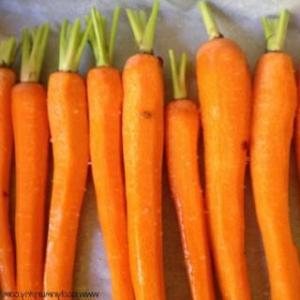carrot: (198, 39, 250, 299), (246, 52, 294, 300), (40, 71, 89, 300), (122, 54, 166, 300), (8, 78, 54, 300), (166, 97, 212, 300), (91, 62, 125, 300)
